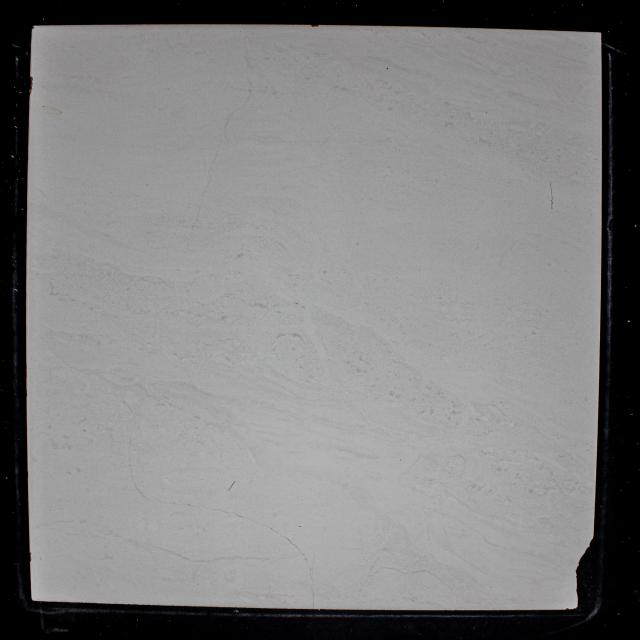edge-chipping: (576, 538, 594, 609), (28, 75, 34, 96), (310, 24, 320, 27)
line: (223, 510, 288, 540), (193, 150, 218, 228), (288, 541, 316, 608), (128, 432, 146, 498), (240, 38, 252, 108), (150, 498, 220, 508), (550, 182, 554, 209), (228, 479, 236, 491)
